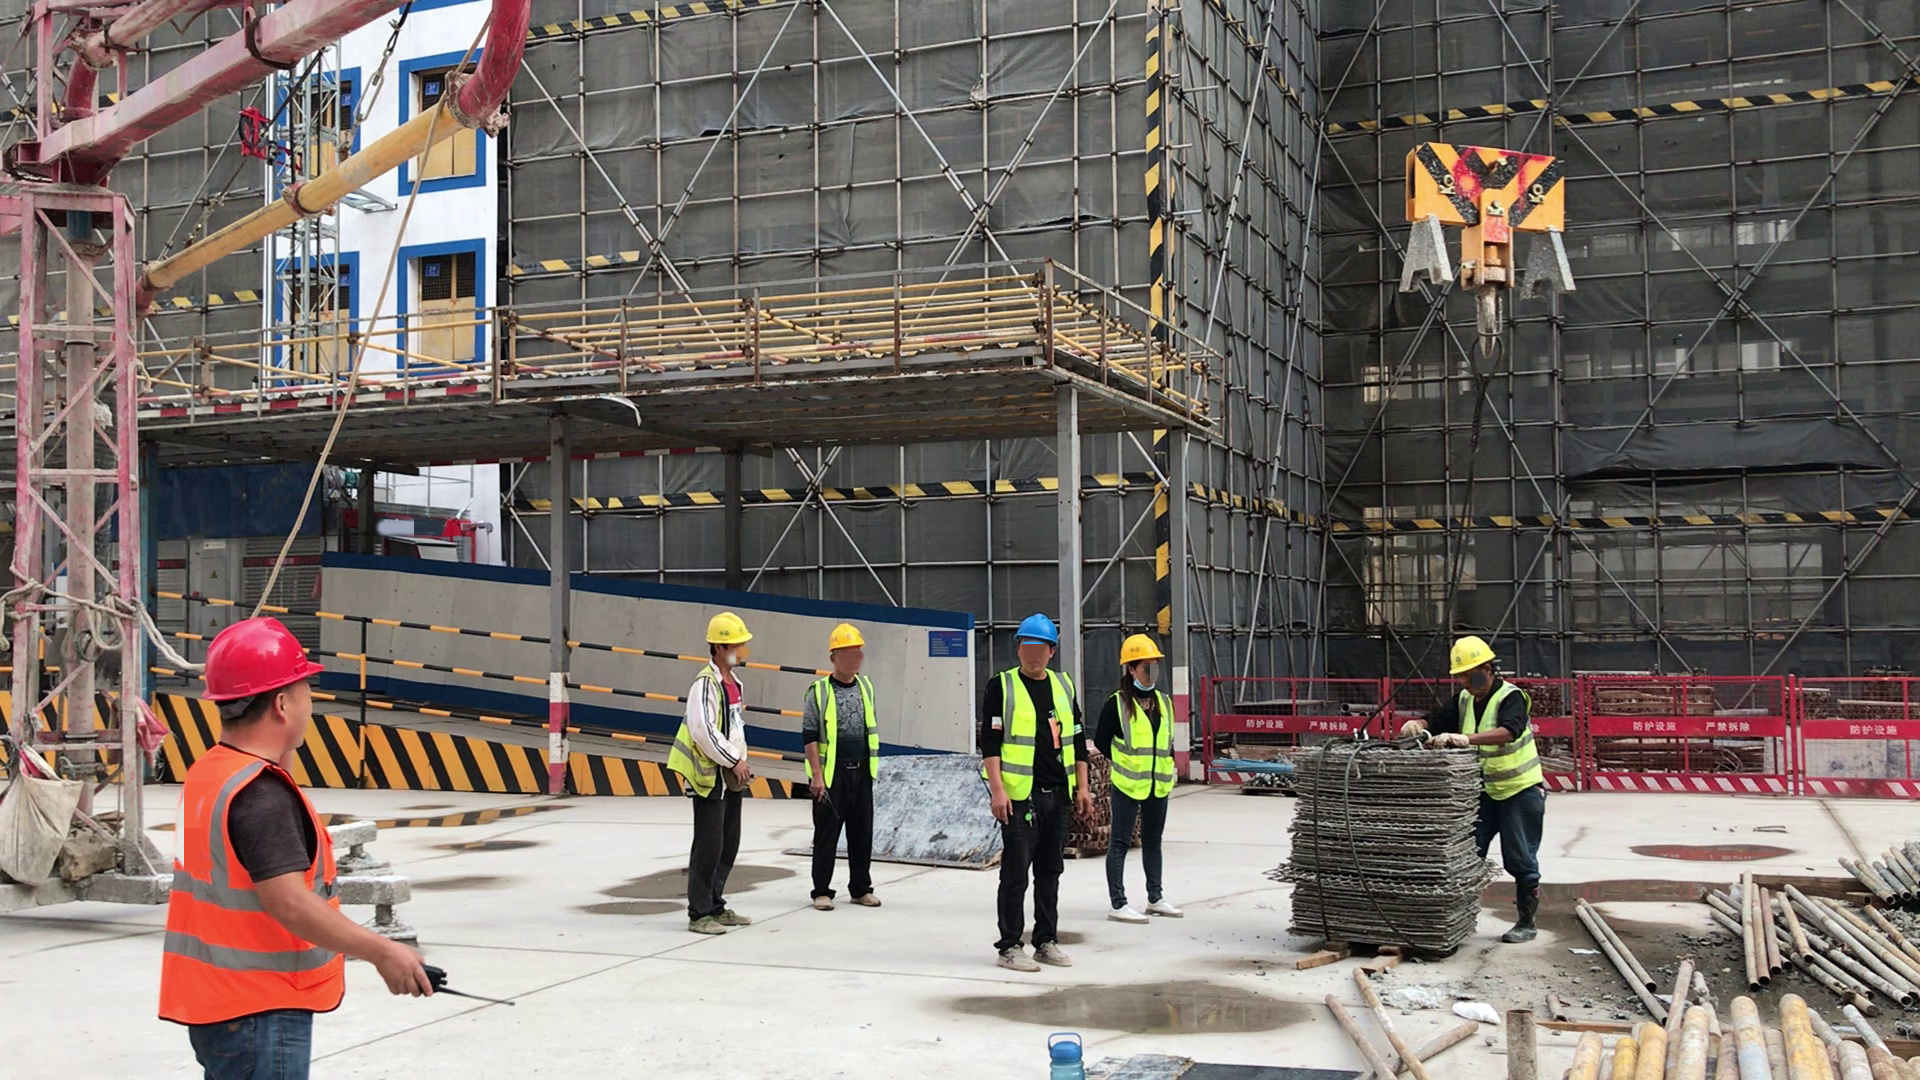helmet: (199, 616, 329, 704), (700, 607, 755, 652), (1014, 609, 1064, 647), (1117, 631, 1166, 666), (825, 623, 866, 658)
person: (162, 614, 452, 1080), (1401, 633, 1561, 948), (976, 607, 1092, 980), (662, 591, 769, 934), (1095, 627, 1202, 927), (799, 618, 888, 914)
vest: (163, 747, 354, 1021), (989, 658, 1083, 806), (1450, 682, 1546, 807), (803, 669, 885, 791), (1102, 682, 1180, 806), (665, 670, 740, 798)
